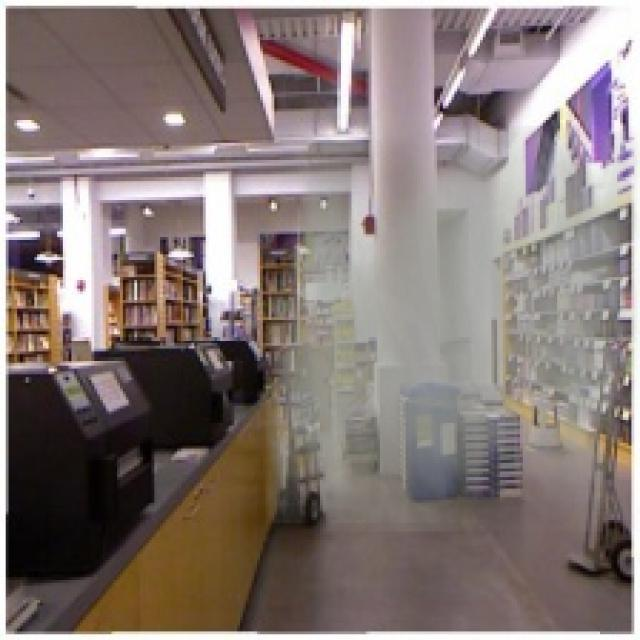Smoke: (266, 126, 638, 534)
